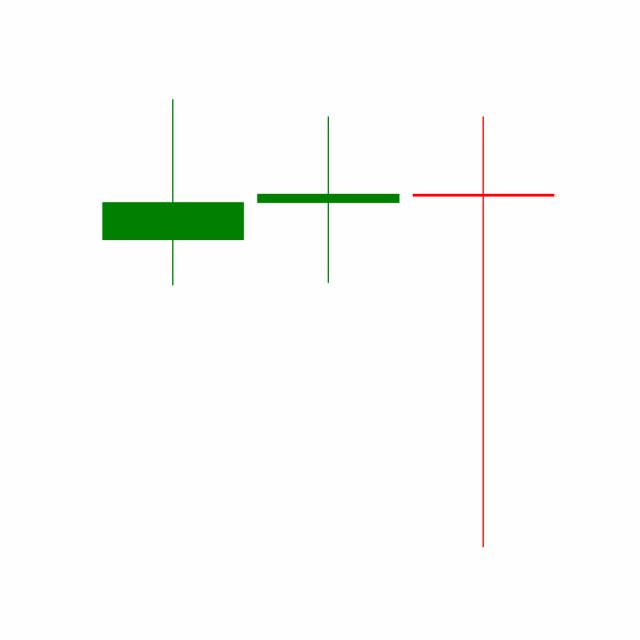Spinning Top: (405, 112, 561, 552)
